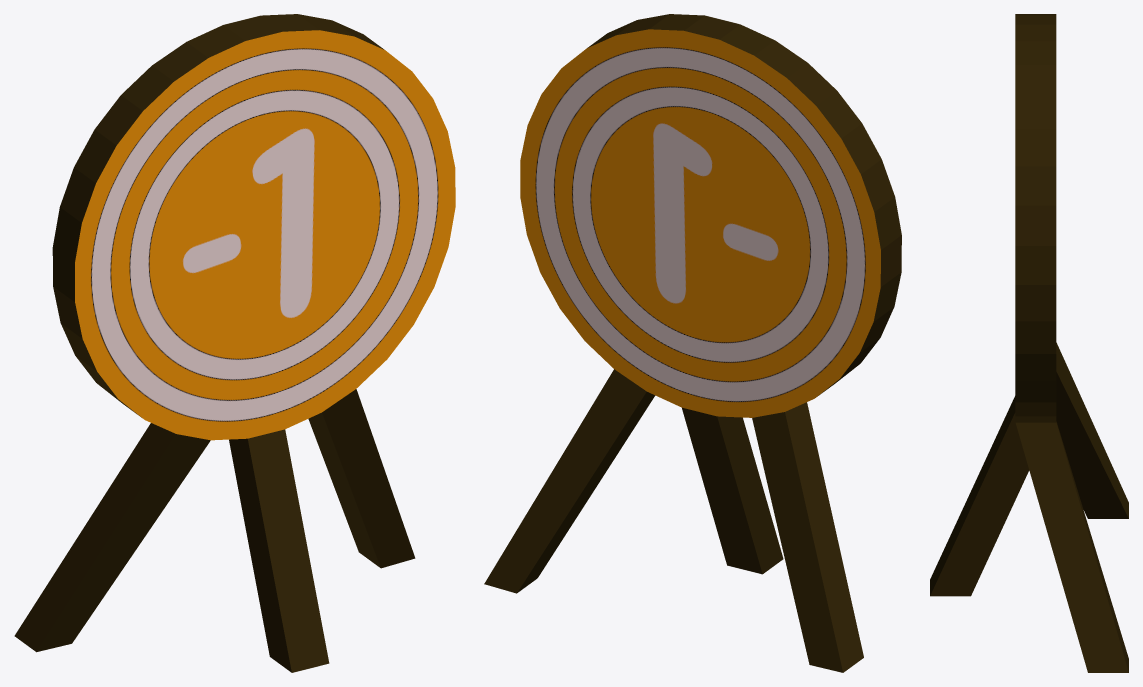
File: renk6.fbx
The picture shows the model from 3 angles, left to right: view 1: azimuth 30°, elevation 25°; view 2: azimuth 150°, elevation 25°; view 3: azimuth 270°, elevation 25°; orthographic projection. The views are drawn at different scales.
Parts seen in each view (by area): view 1: Cylinder; view 2: Cylinder; view 3: Cylinder.
Boxes of the visible parts, bbox=[...] form: Cylinder: bbox=[14, 14, 455, 672]; Cylinder: bbox=[484, 14, 901, 672]; Cylinder: bbox=[930, 14, 1128, 672].
Size of the model in its own units: 199 by 299 by 97.2.
2 materials, 1 textured.
